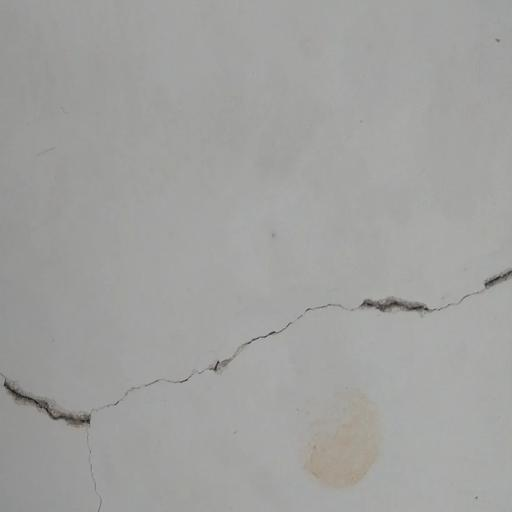major_crack: (5, 269, 512, 478)
